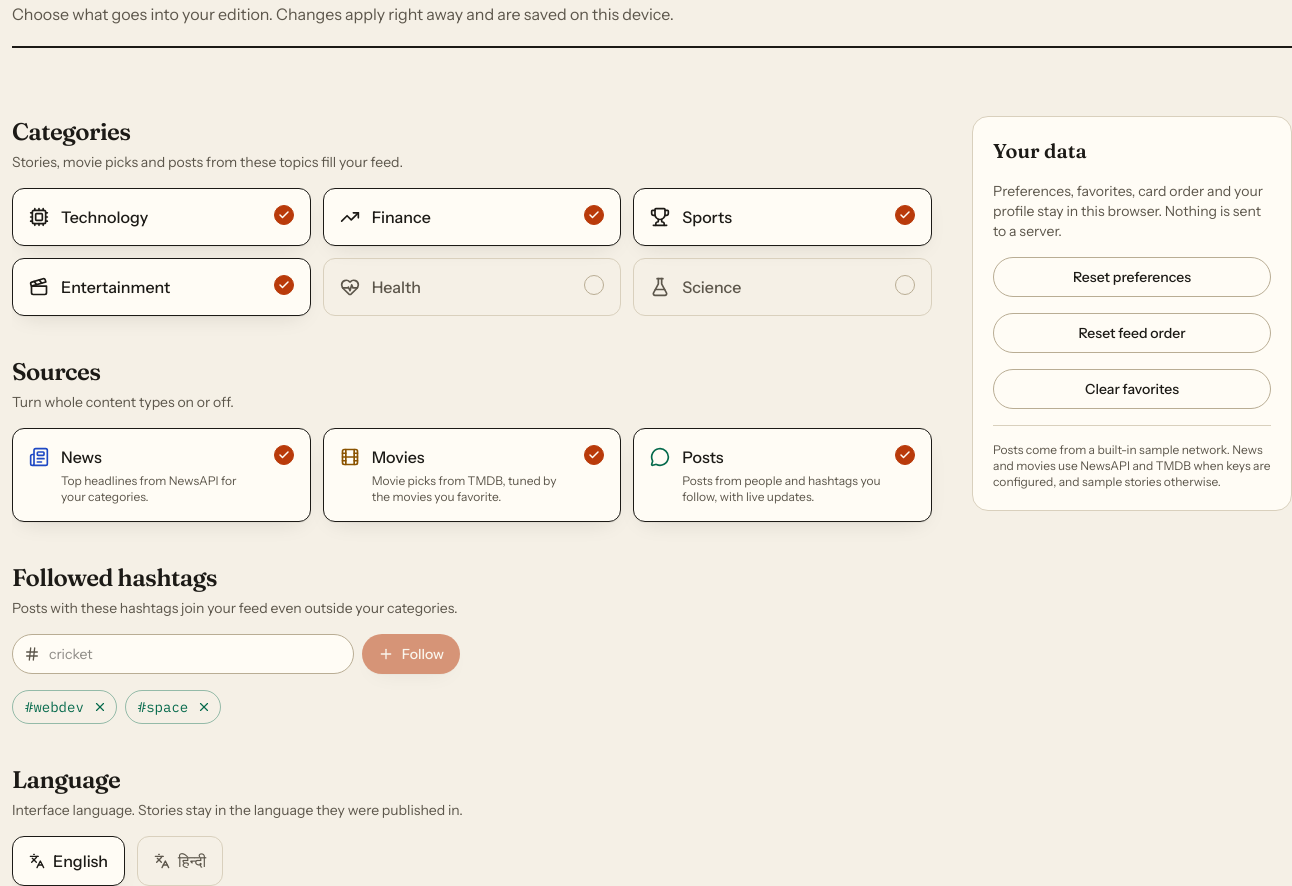
Test: translations › switches the interface and the page language from settings
The width and height of the screenshot is (1292, 886).
(page scrolled)
Expected: the element named "Categories" is shown, [12,188,932,316]
Click the radio button labelled "हिन्दी": (180, 861) [137,836,223,885]
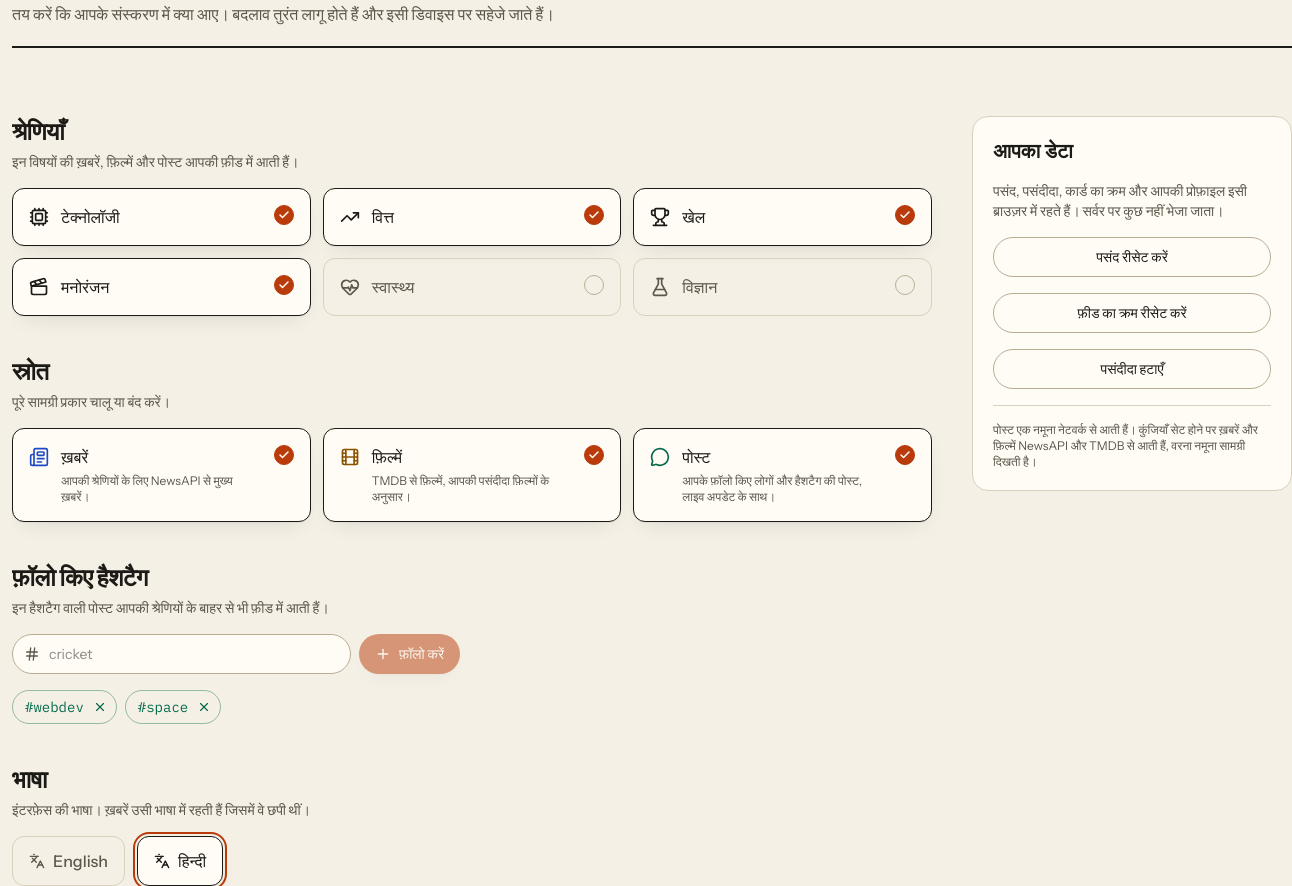
Expected: the button "वित्त" is shown, [323,188,621,246]
Click the radio button labelled "English": (68, 861) [12,836,125,885]
(page scrolled)
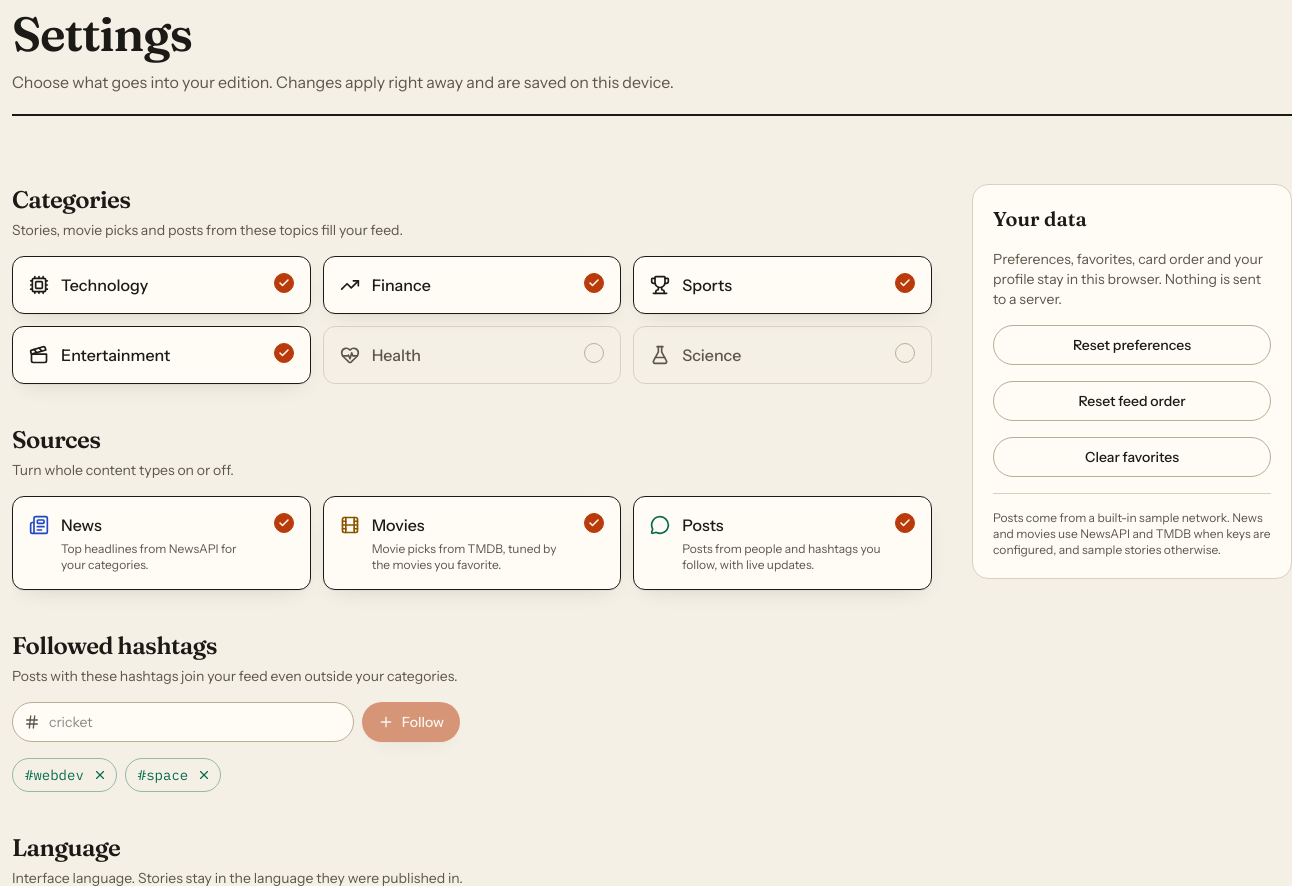
Expected: the heading "Settings" is shown, [12,4,192,63]
